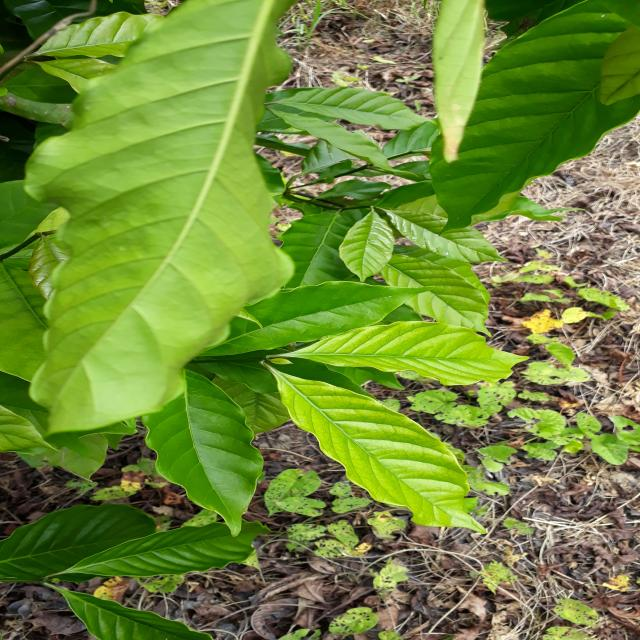Sanas: (22, 0, 297, 434)
